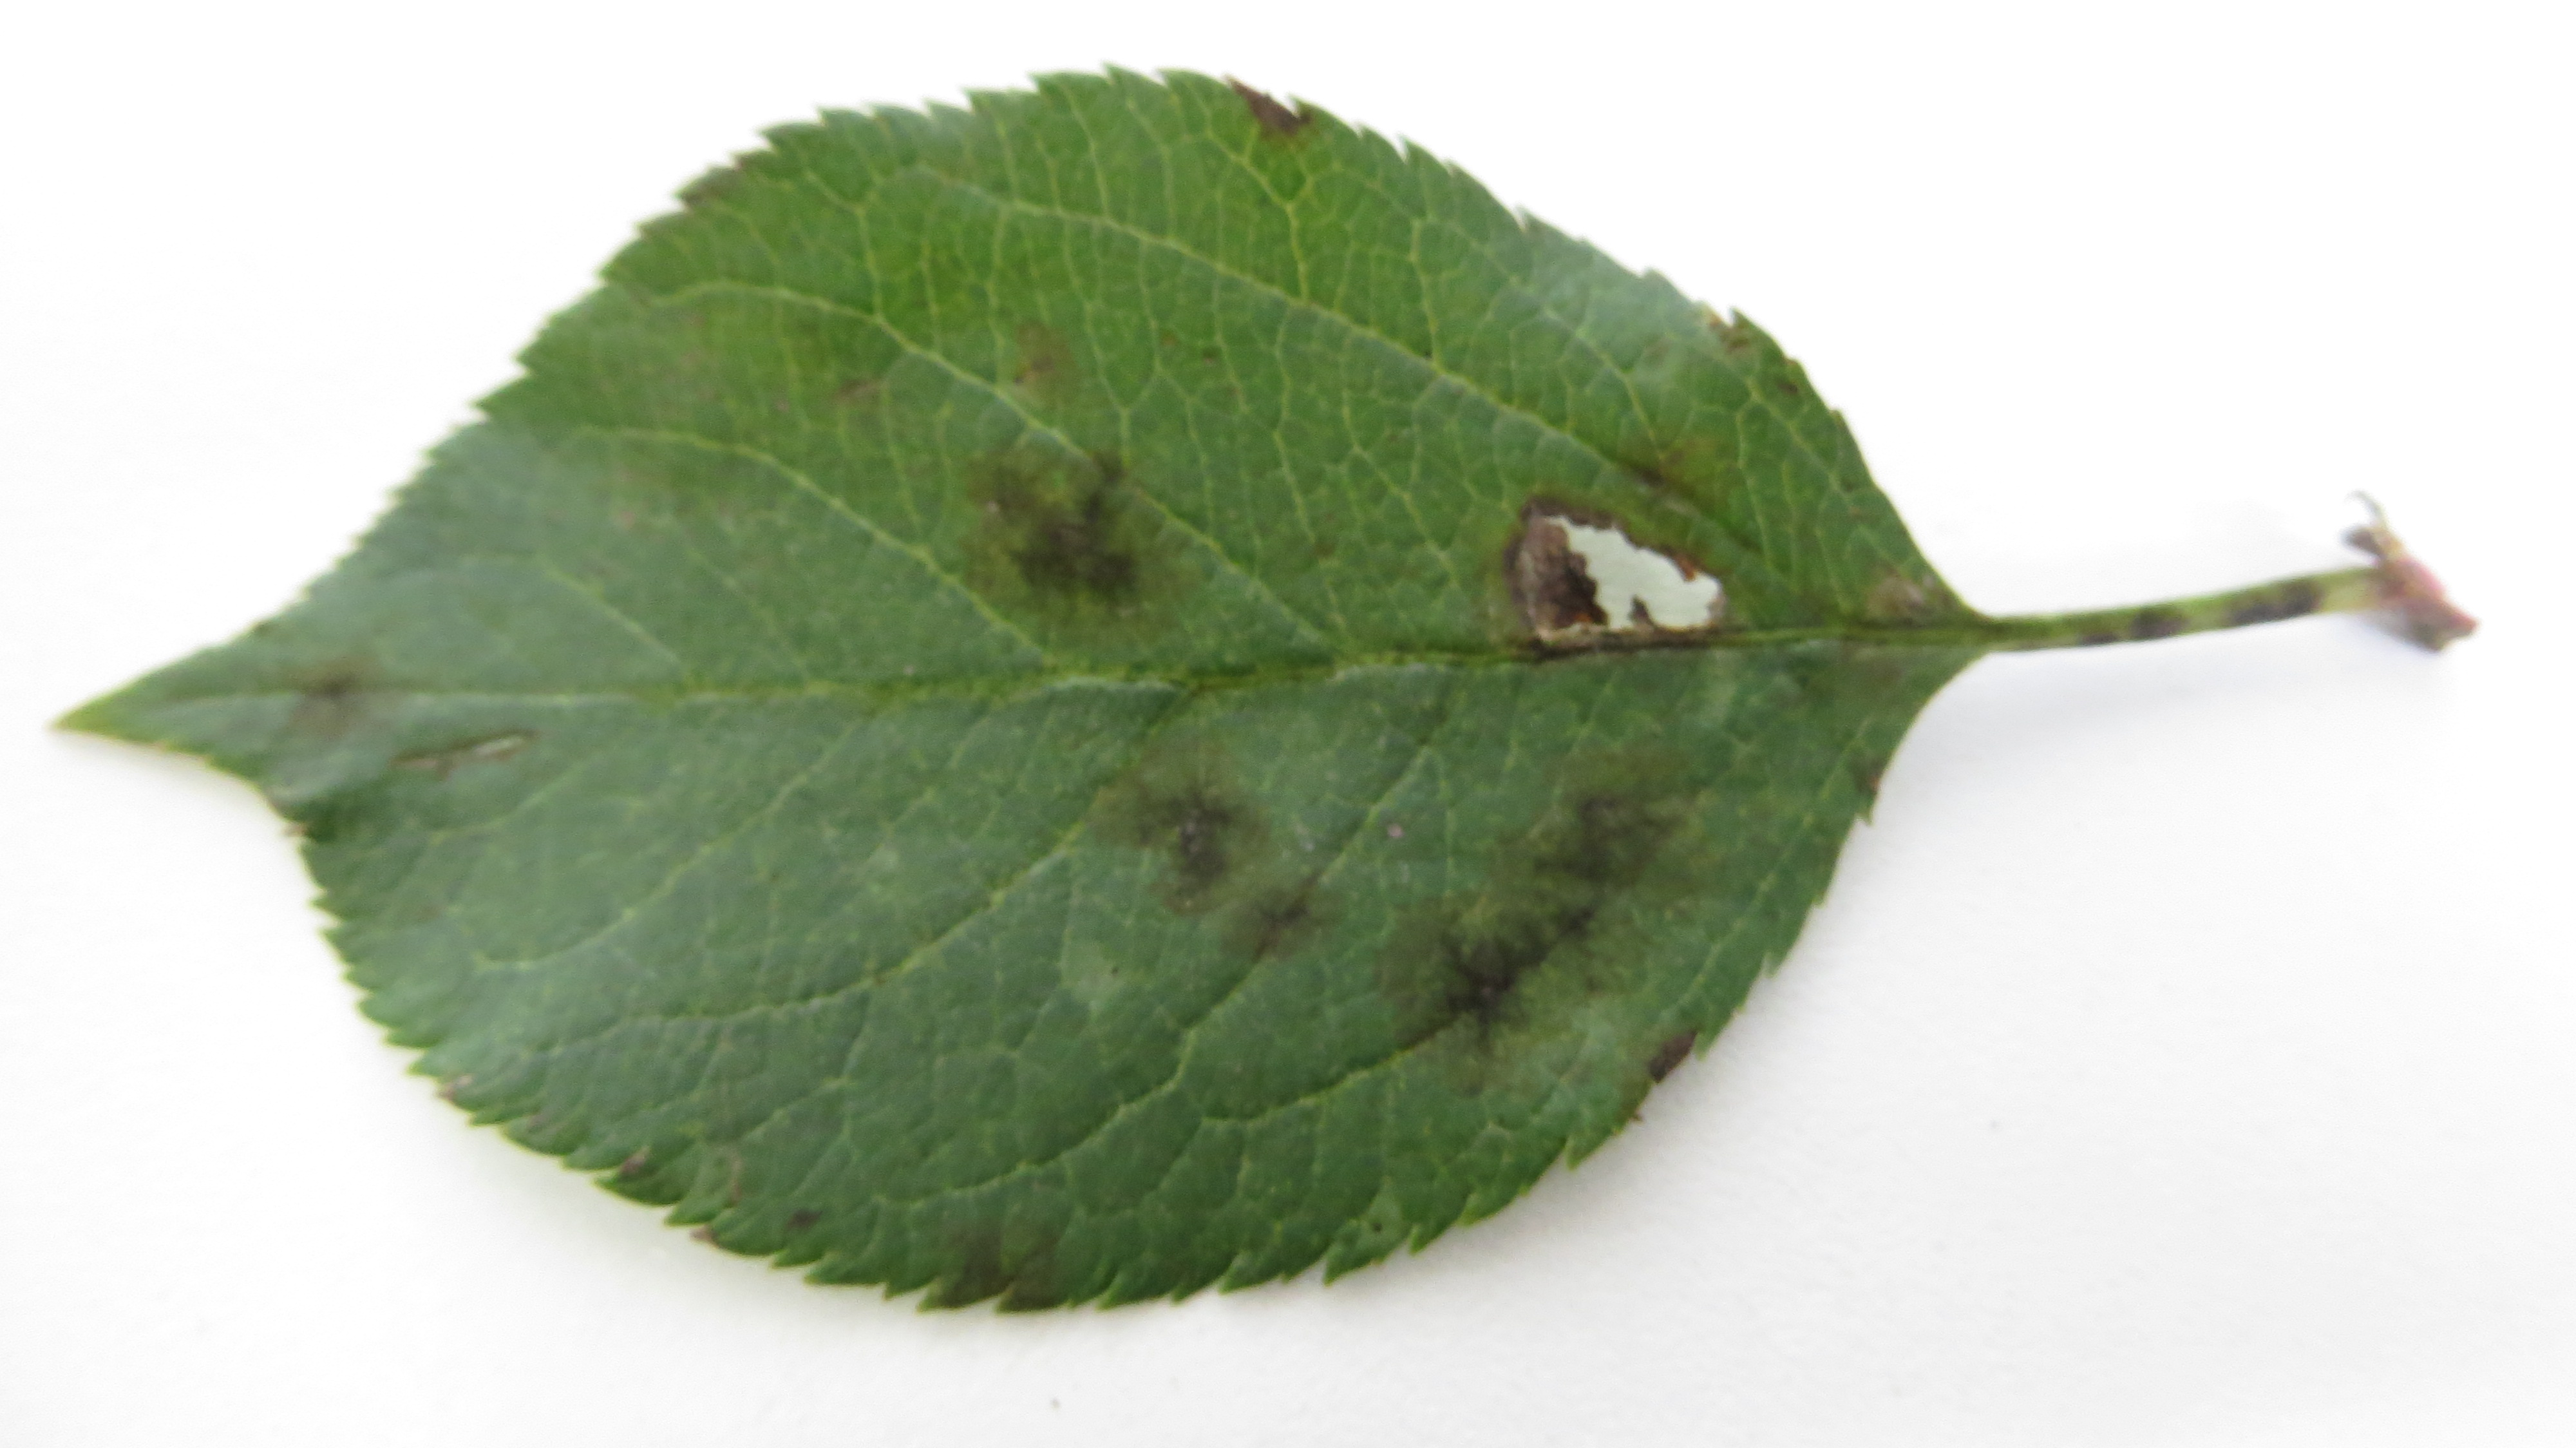sarna: (964, 451, 1161, 628), (1376, 896, 1539, 1083), (1541, 754, 1693, 905), (280, 644, 410, 738), (1502, 512, 1592, 643), (1221, 867, 1339, 967), (1164, 756, 1258, 864), (1534, 894, 1631, 993), (920, 1216, 1016, 1315), (1856, 549, 1955, 637), (1601, 598, 1695, 689), (996, 1207, 1072, 1308), (1619, 430, 1707, 515), (1622, 1005, 1704, 1096), (1003, 312, 1076, 409), (1226, 73, 1311, 152), (1829, 625, 1913, 705), (1706, 315, 1783, 395), (1085, 765, 1164, 841), (816, 354, 885, 432), (1461, 821, 1529, 899), (1161, 839, 1214, 929), (380, 729, 465, 784), (1835, 743, 1897, 814), (764, 1184, 830, 1246), (671, 159, 747, 212), (465, 722, 525, 765)
